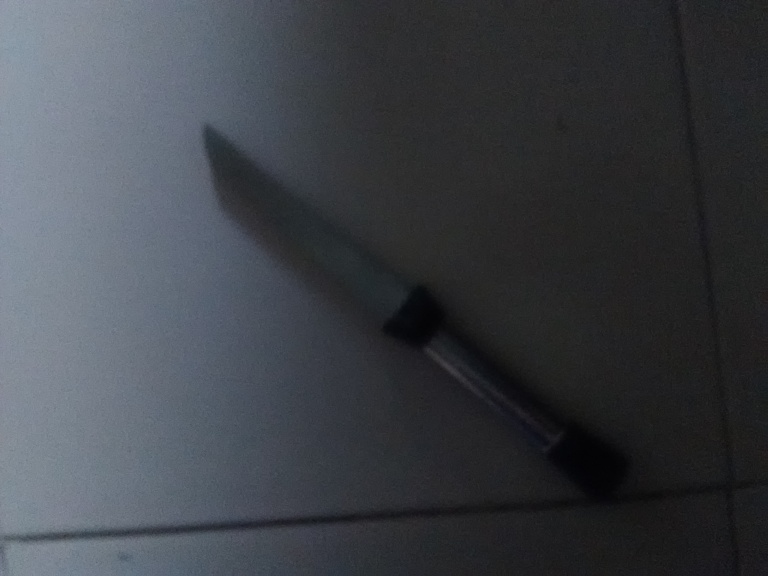knife: (200, 120, 632, 501)
